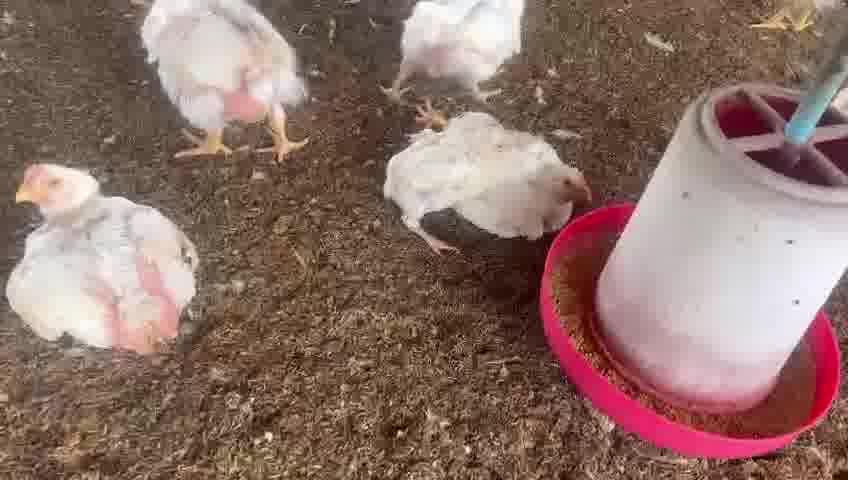AbNormal: (6, 161, 200, 346), (385, 101, 593, 246)
Normal: (137, 2, 311, 161), (386, 2, 517, 102)
